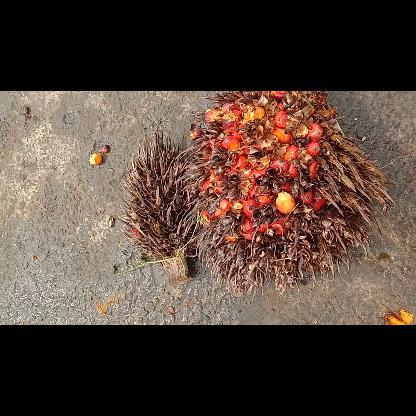Janjang kosong: (116, 127, 200, 285)
Terlalu masak: (182, 90, 395, 296)
